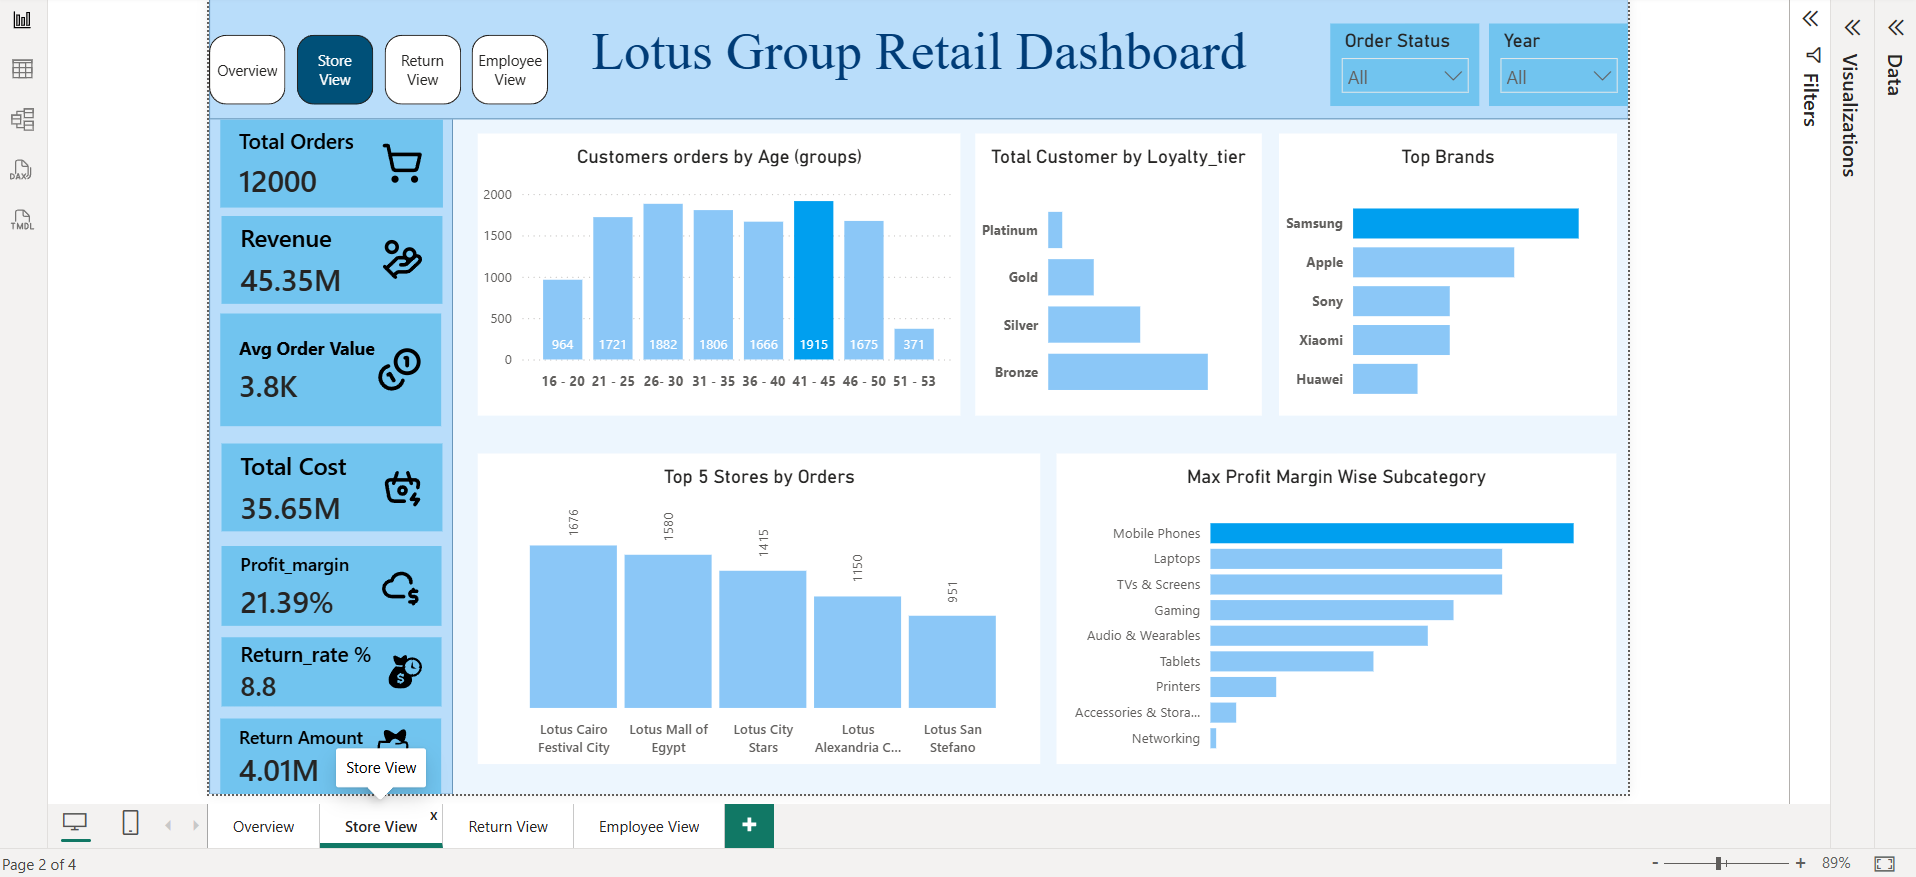

The page's visual inventory and layout, read from the dashboard file:
{"tool":"powerbi","page":{"name":"Store View","canvas":[1280,720],"ordinal":1},"visuals":[{"type":"shape","box":[0,0,220.1,720.2],"z":0},{"type":"shape","box":[0,0,1280.3,111.3],"z":1000},{"type":"textbox","box":[0,0,1280.3,111.3],"z":2000},{"type":"columnChart","title":"Customers orders by Age (groups)","fields":{"Category":["dim_customers.Age (groups)"],"Y":["fact_order_details.Total_orders"]},"box":[242.1,123.5,435.3,254.3],"z":3000},{"type":"clusteredBarChart","title":"Total Customer by Loyalty_tier","fields":{"Category":["dim_customers.loyalty_tier"],"Y":["Count(dim_customers.customer_id)"]},"box":[690.9,123.5,258,254.3],"z":4000},{"type":"columnChart","title":"Top 5 Stores by Orders","fields":{"Category":["dim_stores.store_name"],"Y":["Count(fact_order_details.order_id)"]},"box":[242.1,412.1,507.5,280],"z":5000},{"type":"clusteredBarChart","title":"Top Brands","fields":{"Category":["dim_products.brand"],"Y":["CountNonNull(dim_products.product_id)"]},"box":[964.8,123.5,304.5,254.3],"z":6000},{"type":"clusteredBarChart","title":"Max Profit Margin Wise Subcategory","fields":{"Category":["dim_products.subcategory"],"Y":["Sum(dim_products.profit_margin)"]},"box":[764.3,412.1,505,280],"z":7000},{"type":"pageNavigator","box":[0,35.5,306.9,63.6],"z":8000},{"type":"slicer","fields":{"Values":["dim_date.year"]},"box":[1154,24.5,126,74.6],"z":9000},{"type":"slicer","fields":{"Values":["updated_fact_orders_2022_2023_and_2024.order_status"]},"box":[1011.3,24.5,134.5,74.6],"z":10000},{"type":"cardVisual","fields":{"Data":["CountNonNull(updated_fact_orders_2022_2023_and_2024.order_id)"]},"box":[10.1,111.6,200.6,78.9],"z":11000},{"type":"cardVisual","fields":{"Data":["fact_order_details.Average_order_value"]},"box":[9.8,286.1,199.3,101.5],"z":12000},{"type":"cardVisual","fields":{"Data":["updated_fact_orders_2022_2023_and_2024.Profit_margin"]},"box":[11.3,496,198.1,72.1],"z":13000},{"type":"cardVisual","fields":{"Data":["Sum(updated_fact_orders_2022_2023_and_2024.total_cost)"]},"box":[11,403.5,199.3,79.5],"z":14000},{"type":"cardVisual","fields":{"Data":["Sum(updated_fact_orders_2022_2023_and_2024.total_revenue)"]},"box":[11.3,198.4,199.5,78.9],"z":15000},{"type":"cardVisual","fields":{"Data":["Sum(fact_returns.return_amount)"]},"box":[9.8,651.5,199.3,68.5],"z":16000},{"type":"cardVisual","fields":{"Data":["fact_returns.Return_rate"]},"box":[11,578.4,198.1,62.4],"z":17000}]}

Visuals, with their boxes on the page's 1280x720 design canvas (x1, y1, x2, y2). These are canvas units, not pixel positions in the 1916x877 screenshot, which may show the page scaled, cropped or inside an application window:
shape: x1=0, y1=0, x2=220, y2=720
shape: x1=0, y1=0, x2=1280, y2=111
textbox: x1=0, y1=0, x2=1280, y2=111
"Customers orders by Age (groups)" columnChart: x1=242, y1=124, x2=677, y2=378
"Total Customer by Loyalty_tier" clusteredBarChart: x1=691, y1=124, x2=949, y2=378
"Top 5 Stores by Orders" columnChart: x1=242, y1=412, x2=750, y2=692
"Top Brands" clusteredBarChart: x1=965, y1=124, x2=1269, y2=378
"Max Profit Margin Wise Subcategory" clusteredBarChart: x1=764, y1=412, x2=1269, y2=692
pageNavigator: x1=0, y1=36, x2=307, y2=99
slicer - dim_date.year: x1=1154, y1=24, x2=1280, y2=99
slicer - updated_fact_orders_2022_2023_and_2024.order_status: x1=1011, y1=24, x2=1146, y2=99
cardVisual - CountNonNull(updated_fact_orders_2022_2023_and_2024.order_id): x1=10, y1=112, x2=211, y2=190
cardVisual - fact_order_details.Average_order_value: x1=10, y1=286, x2=209, y2=388
cardVisual - updated_fact_orders_2022_2023_and_2024.Profit_margin: x1=11, y1=496, x2=209, y2=568
cardVisual - Sum(updated_fact_orders_2022_2023_and_2024.total_cost): x1=11, y1=404, x2=210, y2=483
cardVisual - Sum(updated_fact_orders_2022_2023_and_2024.total_revenue): x1=11, y1=198, x2=211, y2=277
cardVisual - Sum(fact_returns.return_amount): x1=10, y1=652, x2=209, y2=720
cardVisual - fact_returns.Return_rate: x1=11, y1=578, x2=209, y2=641
